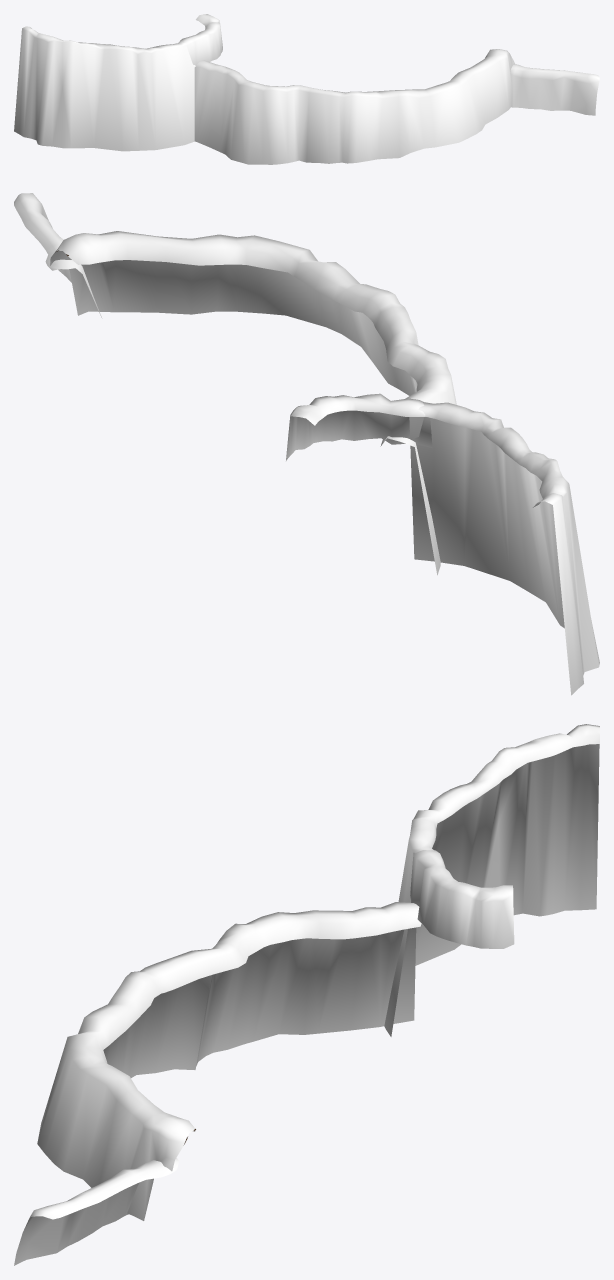
File: M5_T_bingzhui.FBX
3 views of the same model, one above another, from view 1: azimuth 30°, elevation 25°; view 2: azimuth 150°, elevation 25°; view 3: azimuth 270°, elevation 25° (orthographic). The views are drawn at different scales.
Visible parts, largest first — view 1: M5_T_bingzhui; view 2: M5_T_bingzhui; view 3: M5_T_bingzhui.
Boxes of the visible parts, x1,y1,x2,y2 form: M5_T_bingzhui: [14, 14, 599, 164]; M5_T_bingzhui: [14, 193, 599, 695]; M5_T_bingzhui: [14, 724, 599, 1265].
Size of the model in its own units: 5825 by 1301 by 3517.
